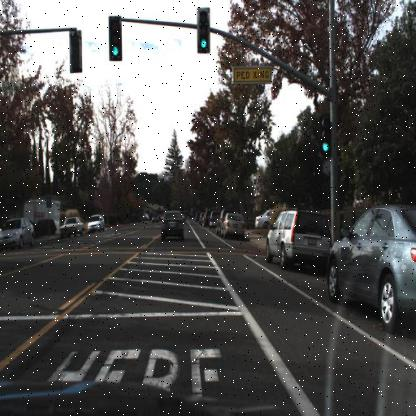car: (327, 204, 416, 336), (264, 207, 332, 266), (0, 217, 37, 253), (159, 208, 186, 244), (220, 212, 246, 240), (253, 206, 279, 230), (58, 216, 86, 238), (87, 213, 105, 235), (150, 210, 161, 226)
trafficLight-Green: (107, 11, 123, 63), (196, 5, 210, 54), (318, 113, 330, 158)
